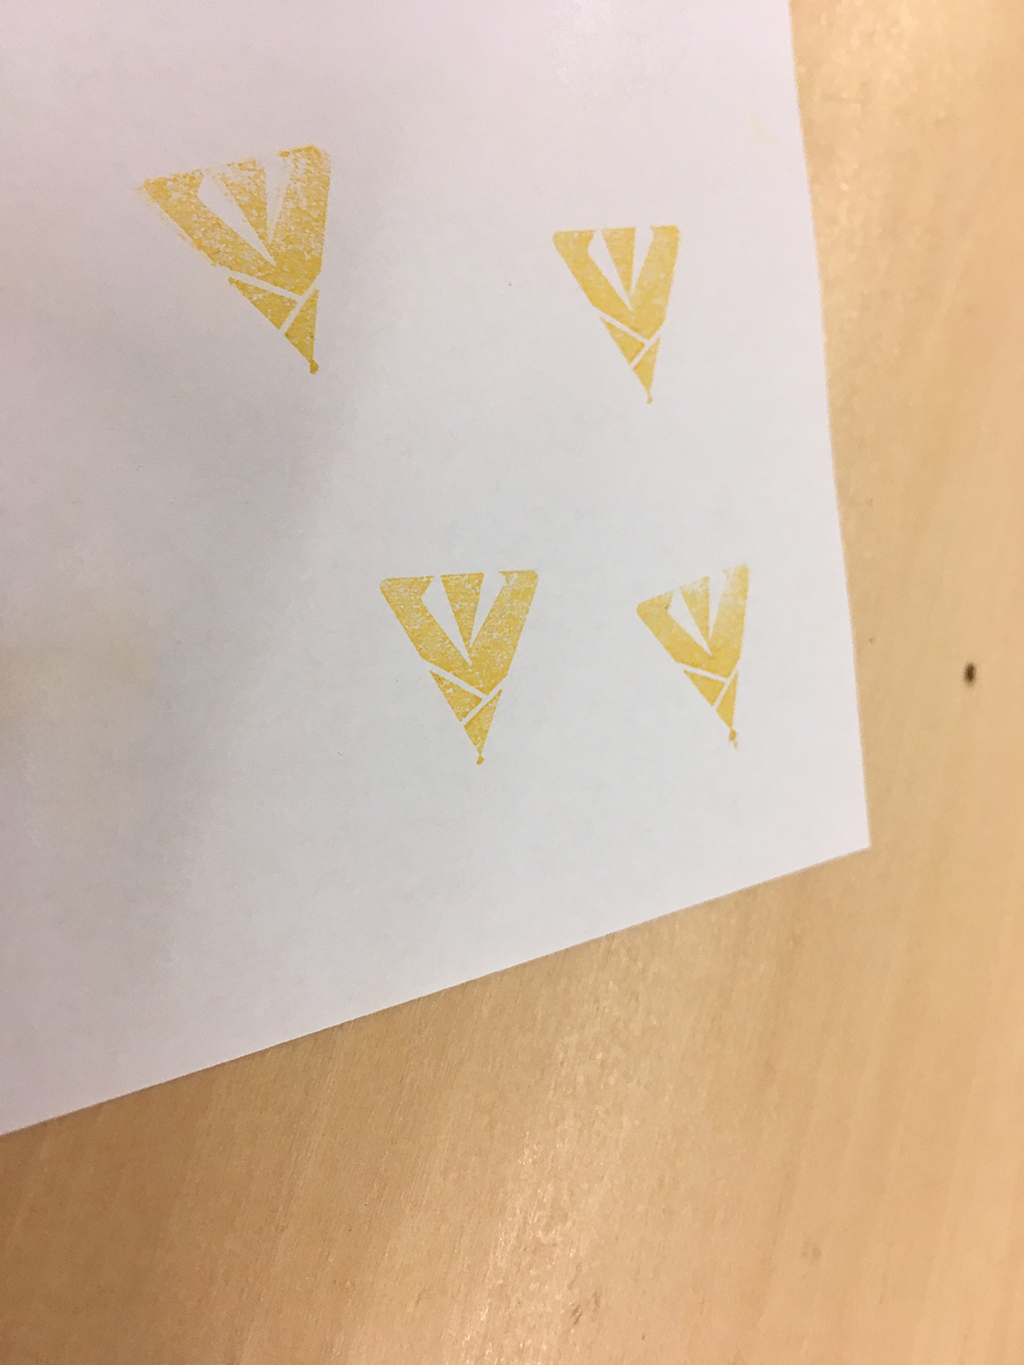tent: (118, 124, 349, 393), (364, 554, 554, 778), (624, 543, 782, 770), (545, 212, 693, 423)
